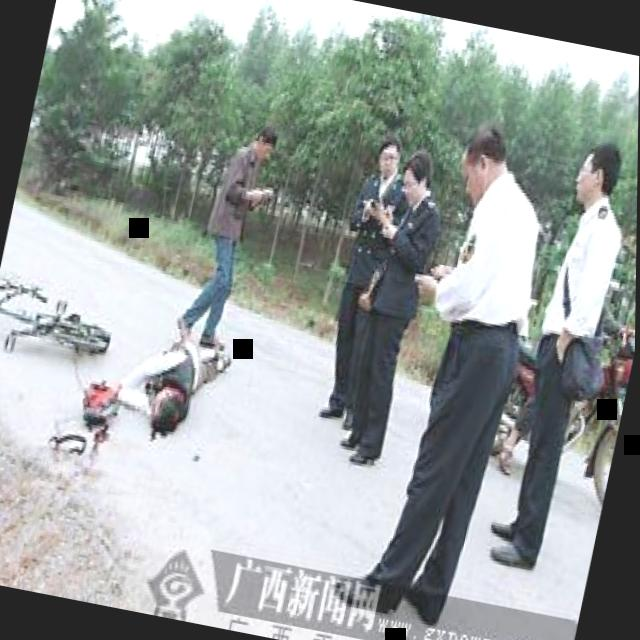Fall-Detected: (98, 292, 250, 452)
